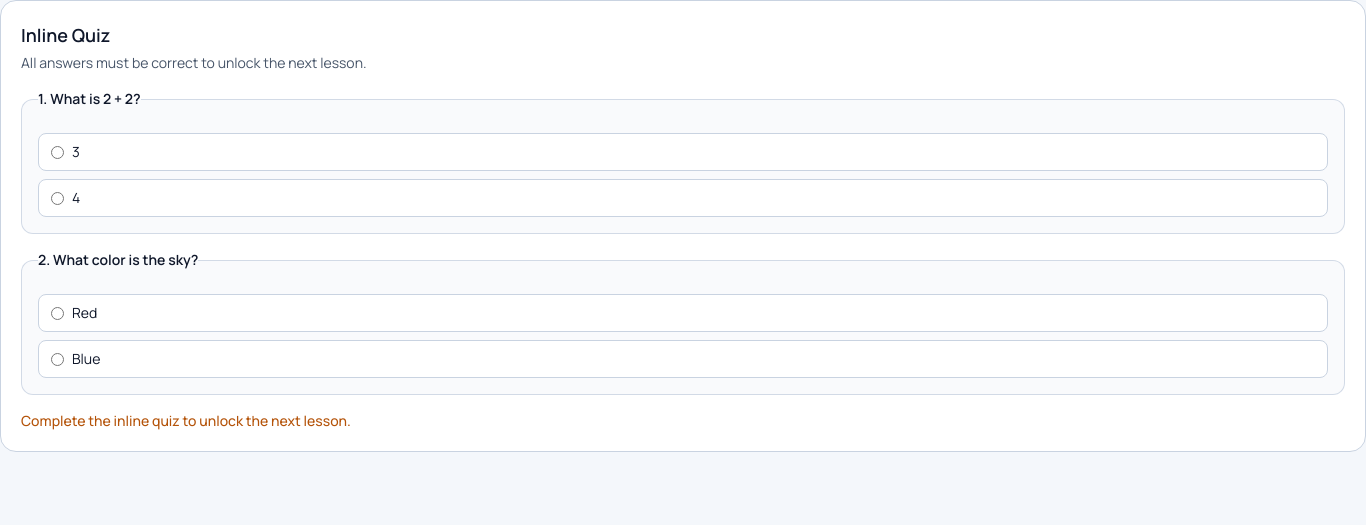
Scenario: InlineQuizRunner › shows feedback for incorrect answers and marks the quiz complete when all answers are correct
This screenshot has width=1366, height=525.
Click the radio button labelled "3". click: (58, 152)
box: [51,146,64,158]
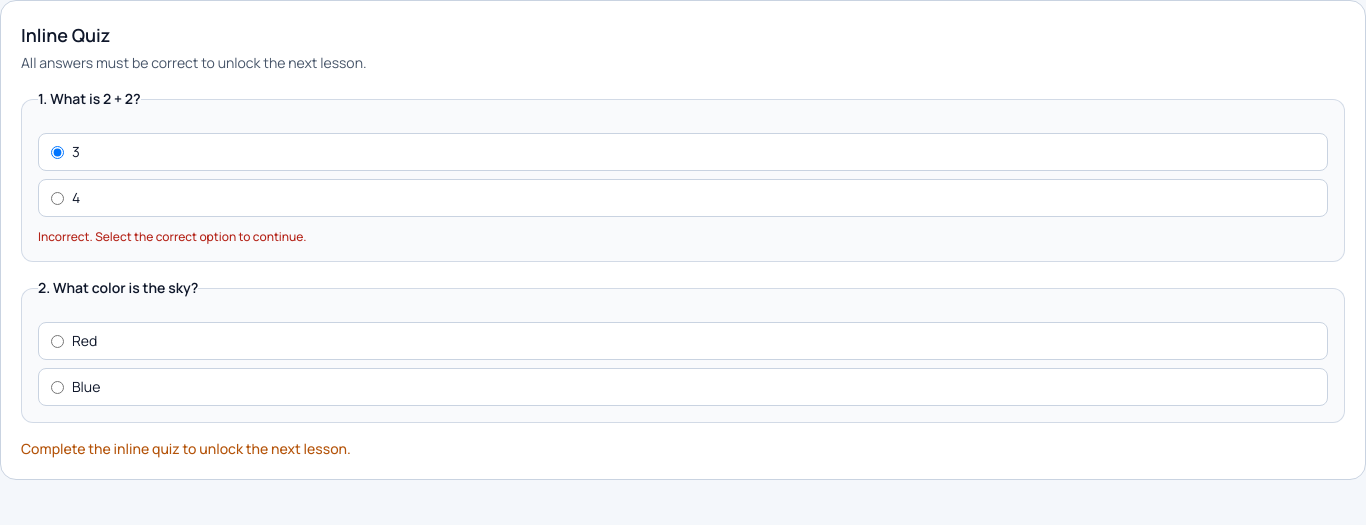
Check: the text "Incorrect. Select the correct option to continue." is shown, box [38,228,306,245]
Click the radio button labelled "4". click: (58, 198)
box: [51,192,64,204]
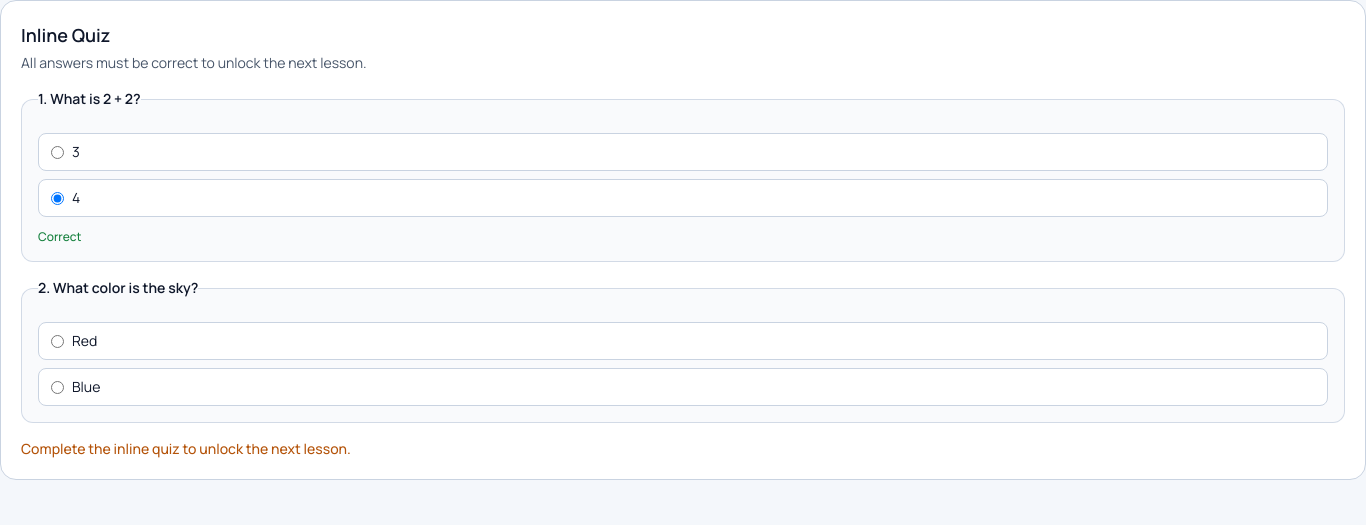
Click the radio button labelled "Blue". click: (58, 387)
box: [51,380,64,394]
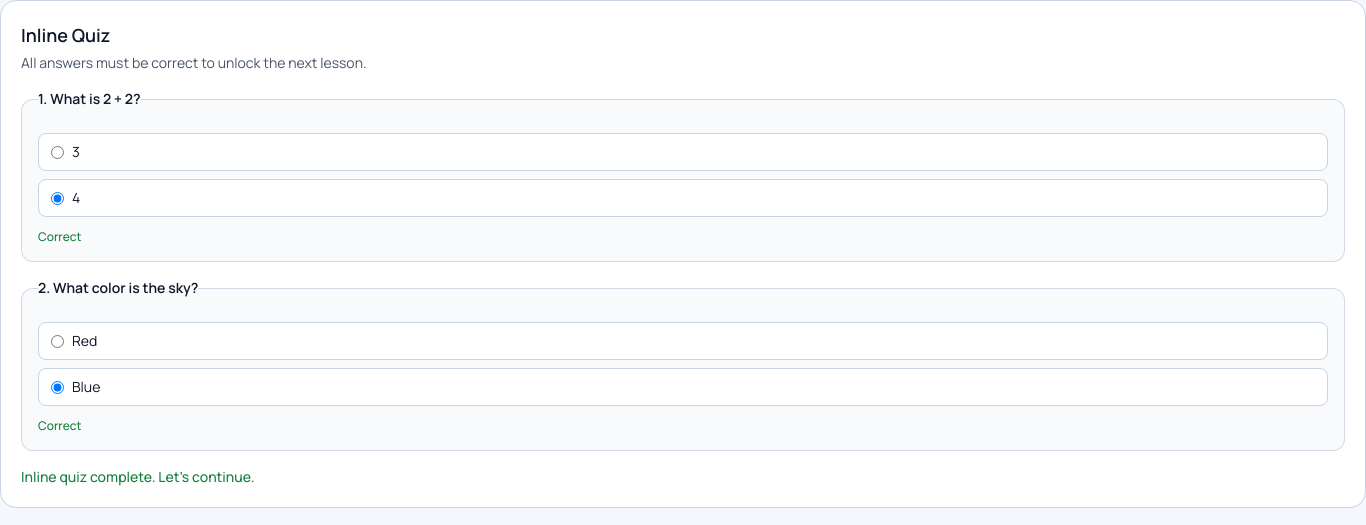
Check: the text "Inline quiz complete. Let's continue." is shown, box [21,467,254,486]
